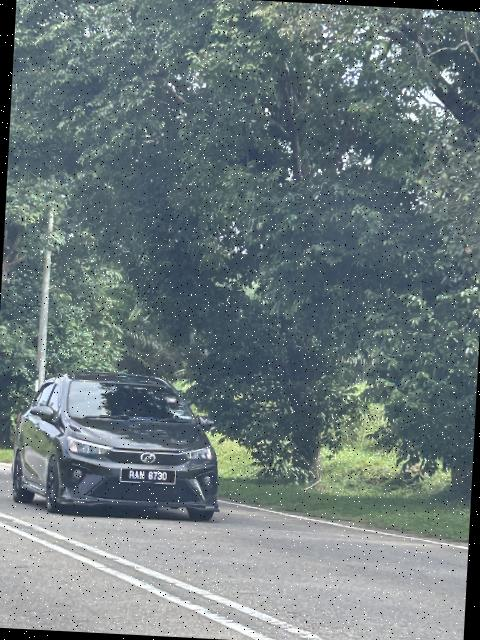License_Plate: (119, 466, 177, 487)
car: (11, 365, 229, 524)
